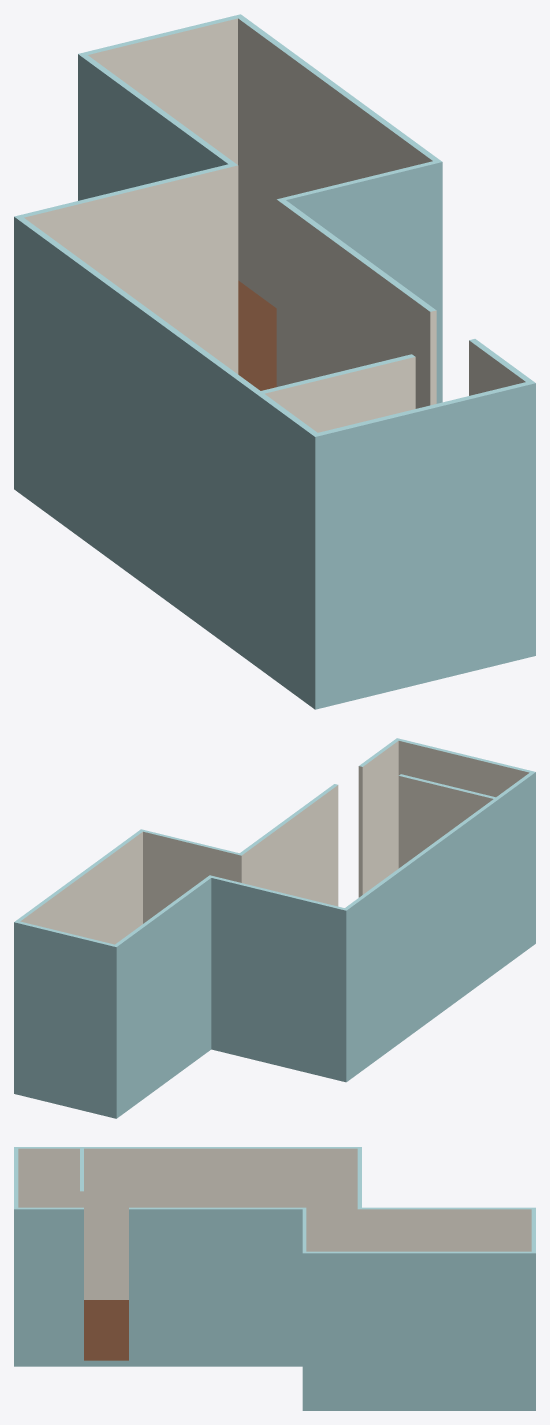
Rendered from raw.fbx.
3 renders of one model, top to bottom at view 1: azimuth 30°, elevation 25°; view 2: azimuth 150°, elevation 25°; view 3: azimuth 270°, elevation 25°, orthographic. The views are drawn at different scales.
Visible parts, largest first — view 1: Plane; view 2: Plane; view 3: Plane.
Boxes of the visible parts, left/top/right/bottom form: Plane: left=14, top=14, right=535, bottom=709; Plane: left=14, top=738, right=535, bottom=1118; Plane: left=14, top=1147, right=535, bottom=1410.
Size of the model in its own units: 1812 by 1251 by 3757.
